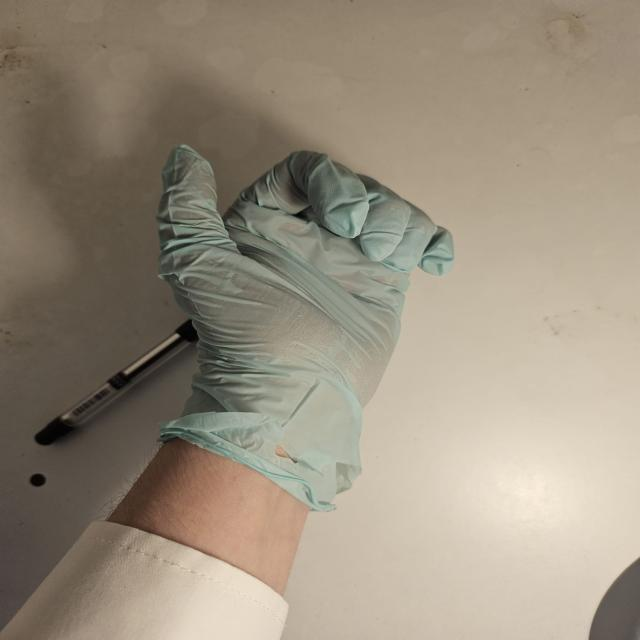gloves_damaged: (152, 138, 455, 515)
